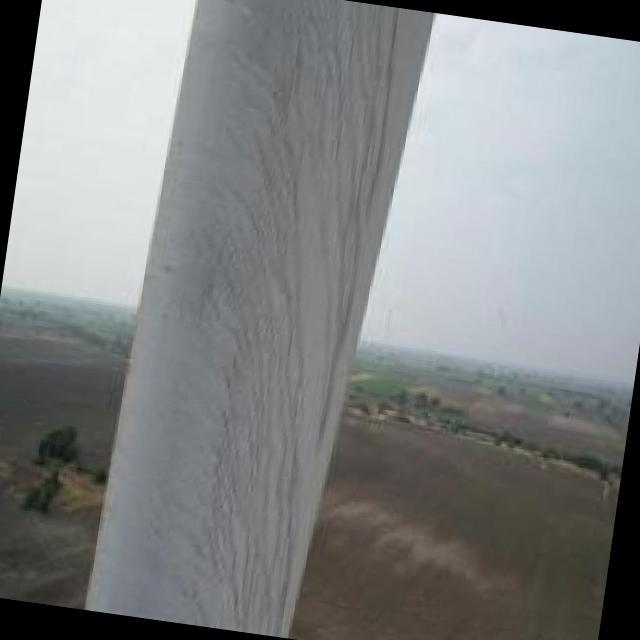Dirt: (150, 8, 405, 638)
